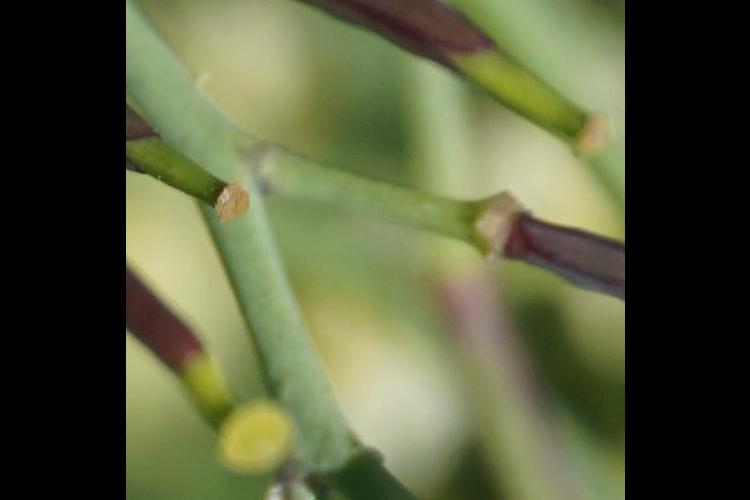pod: (140, 1, 610, 162), (132, 270, 289, 468), (424, 183, 624, 302), (131, 96, 242, 220)
